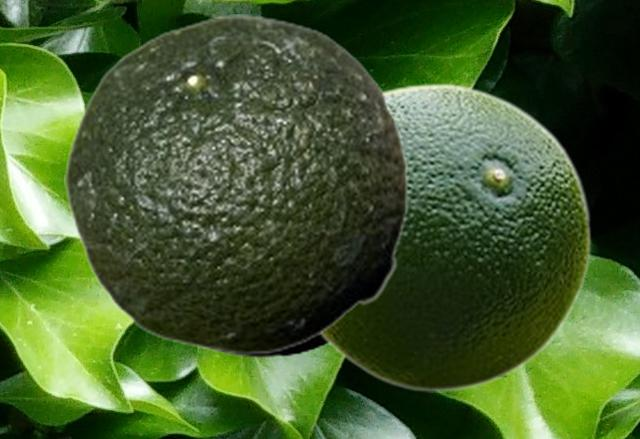calamansi: (64, 14, 408, 354), (317, 82, 592, 391)
